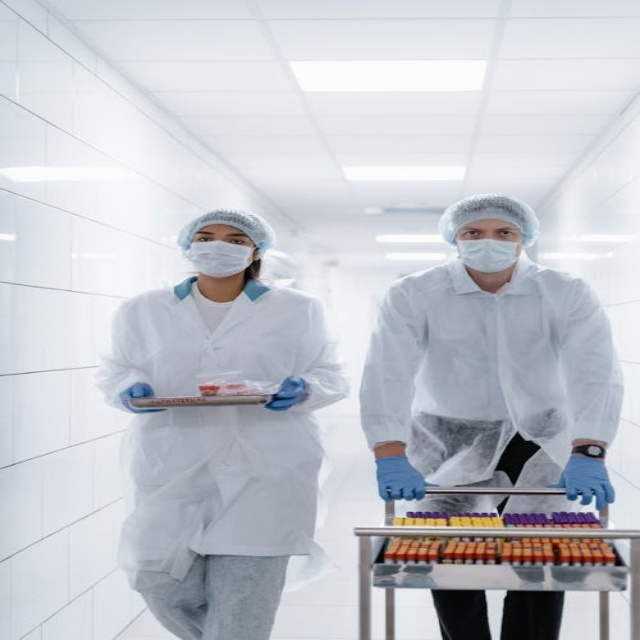Guantes: (547, 454, 614, 507), (375, 456, 430, 502), (120, 381, 170, 413), (263, 375, 307, 410)
Mascara: (184, 240, 255, 277), (455, 237, 522, 273)
Sin_gafas: (465, 230, 479, 237), (230, 239, 246, 245), (499, 231, 514, 237), (197, 237, 211, 243)
